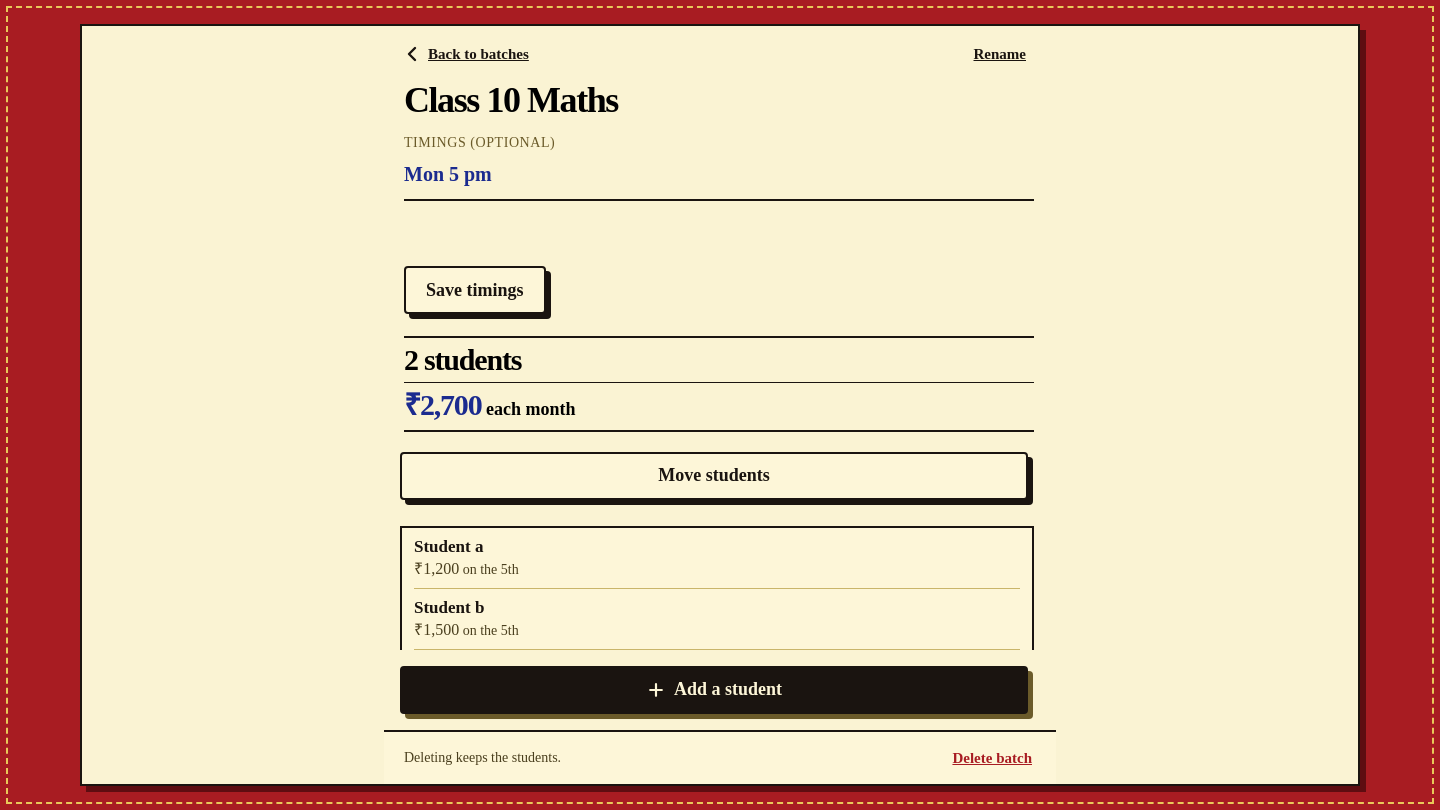
Test: rename and timings (42, 46) › saves only the timings with Save timings, keeping the saved name, and says so
Replace the text in the text box labelled "Timings (optional)" with "Tue 6 pm" at x=719, y=175, box [404, 153, 1034, 197]
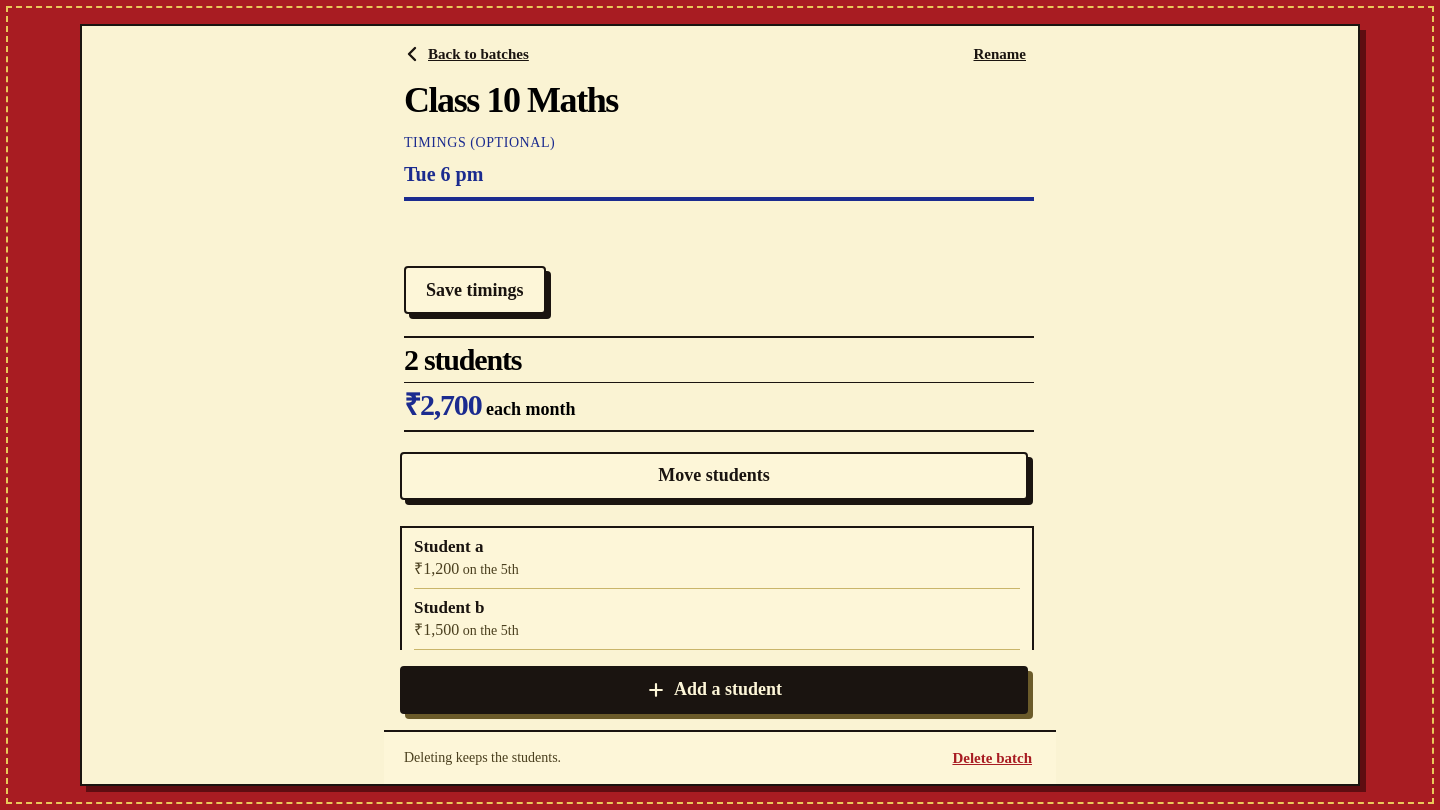
Click the button "Save timings" at x=475, y=290, box [404, 266, 546, 314]
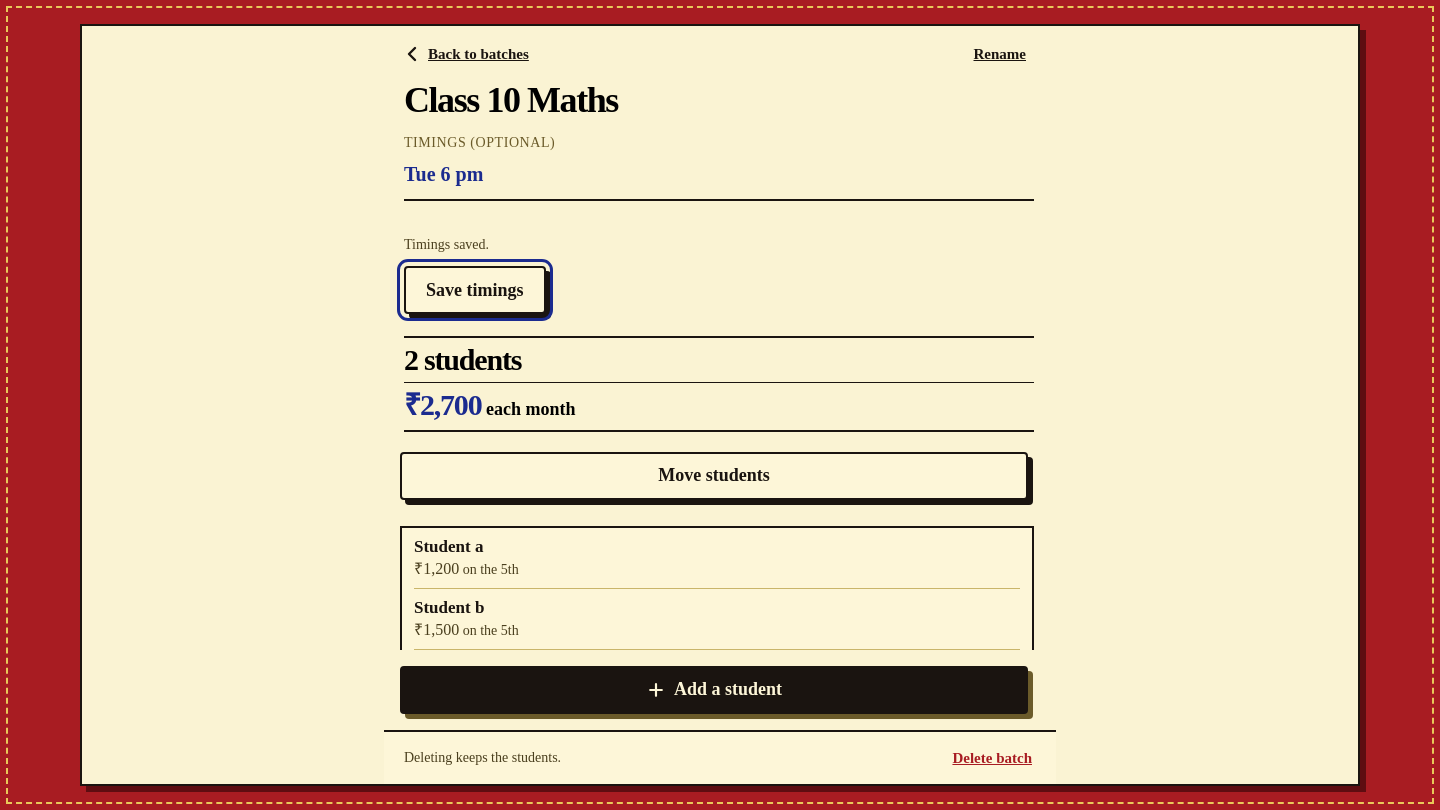
Expected: the text "Timings saved." is shown, [404, 237, 489, 252]
